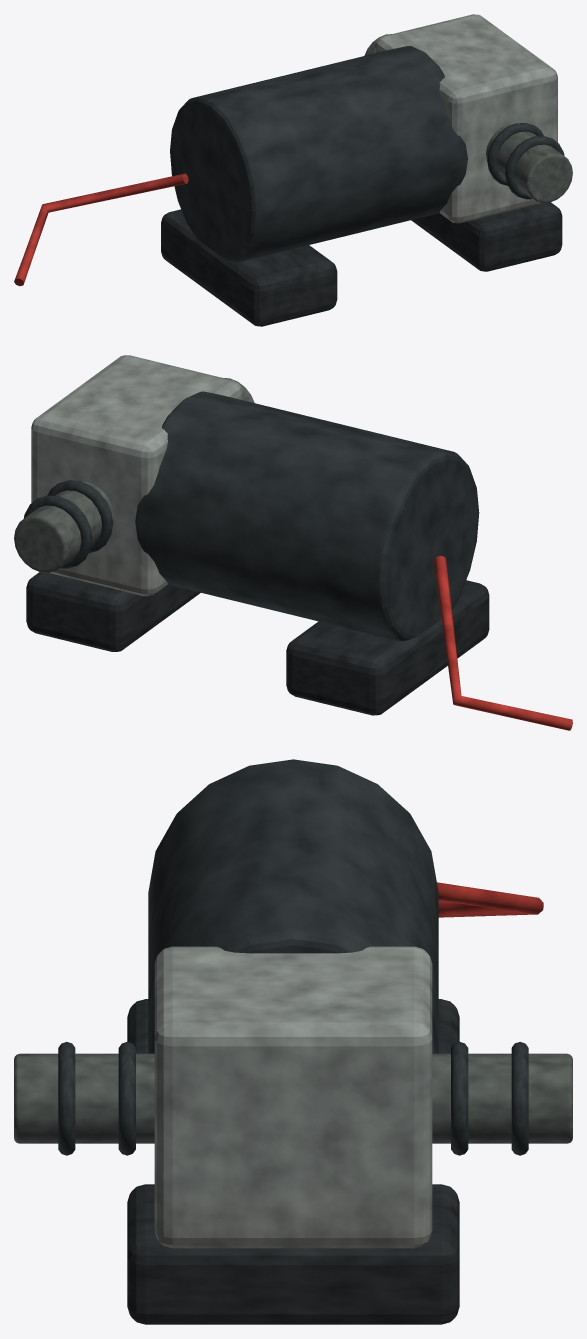
File: GR_UtilityPump_04.glb
3 renders of one model, top to bottom at view 1: azimuth 30°, elevation 25°; view 2: azimuth 150°, elevation 25°; view 3: azimuth 270°, elevation 25°, orthographic. The views are drawn at different scales.
Parts seen in each view (by area): view 1: Static; view 2: Static; view 3: Static.
Part boxes in pixels (x1=…): Static: x1=14, y1=14, x2=572, y2=326; Static: x1=14, y1=355, x2=572, y2=730; Static: x1=14, y1=759, x2=572, y2=1324.
Size of the model in its own units: 0.3021 by 0.118 by 0.185.
Materials: 1 (1 with a texture image).
